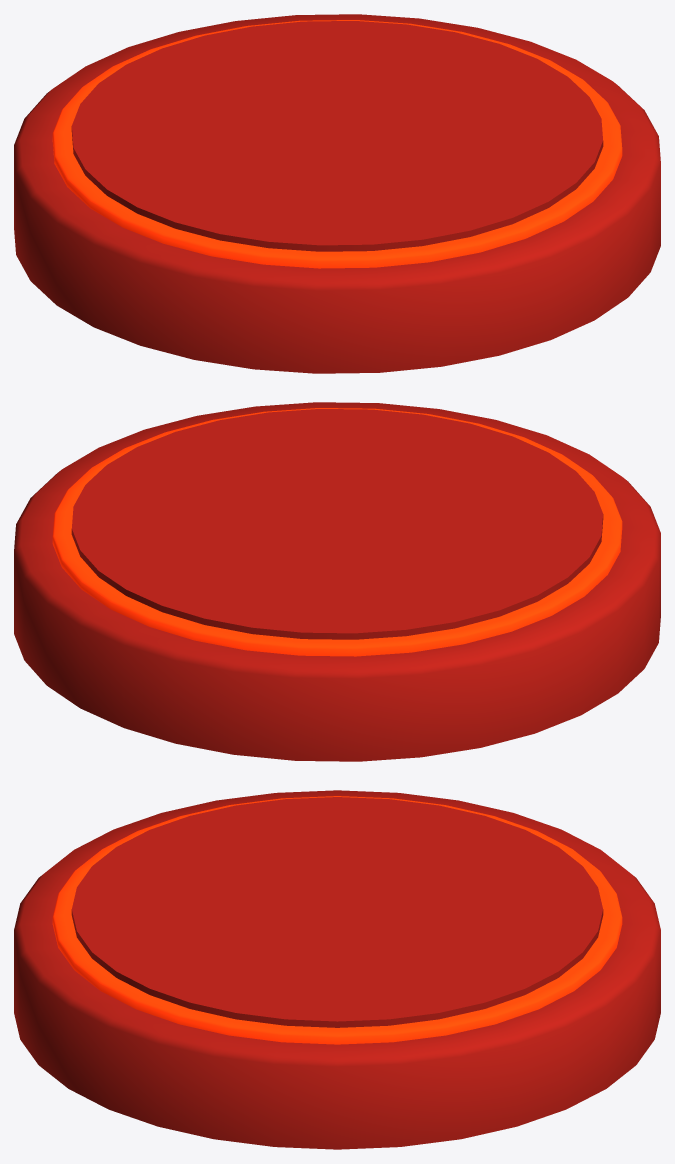
File: BlockShop.fbx
3 renders of one model, top to bottom at view 1: azimuth 30°, elevation 25°; view 2: azimuth 150°, elevation 25°; view 3: azimuth 270°, elevation 25°, orthographic.
Visible parts, largest first — view 1: BlockShop; view 2: BlockShop; view 3: BlockShop.
Boxes of the visible parts, box(x1,y1,x2,y2) form: BlockShop: box(14, 14, 660, 373); BlockShop: box(14, 402, 660, 761); BlockShop: box(14, 790, 660, 1149).
Bounding box in the file's own units: 300 × 52.97 × 300.
